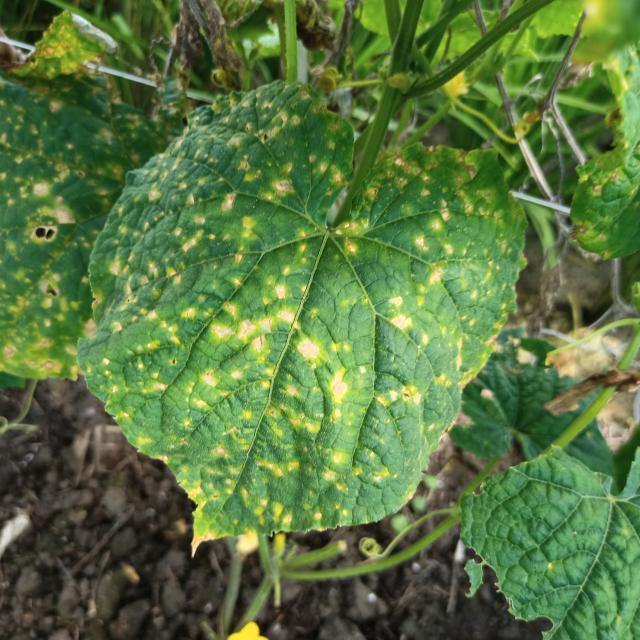disease_cucumber: (85, 84, 523, 528), (0, 57, 167, 383)
